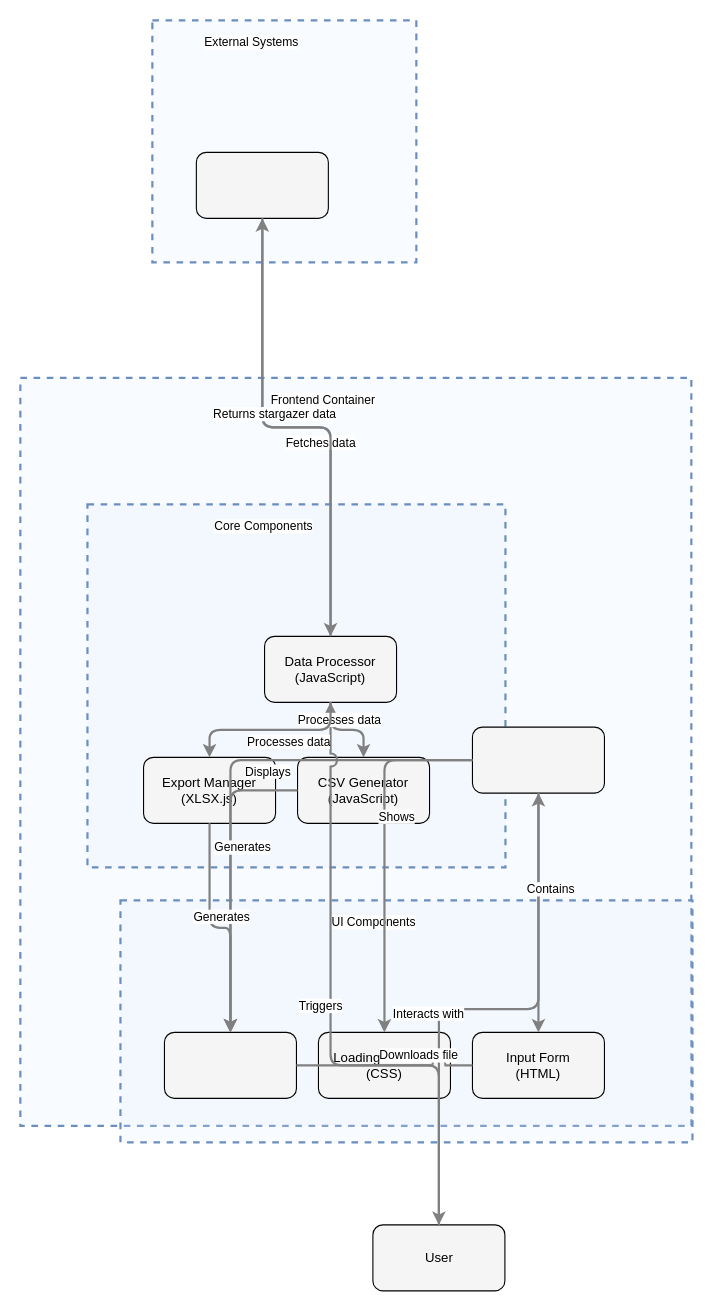
Some shapes in this 712 by 1310 pixel diagram are drawn without their labels. The box of each missing label's shape, as (x1, y1, x2, y2) in pixels:
Download Buttons (HTML): (163, 1031, 296, 1098)
GitHub API (REST API): (195, 151, 328, 218)
Web Interface (HTML/CSS): (471, 726, 604, 793)
